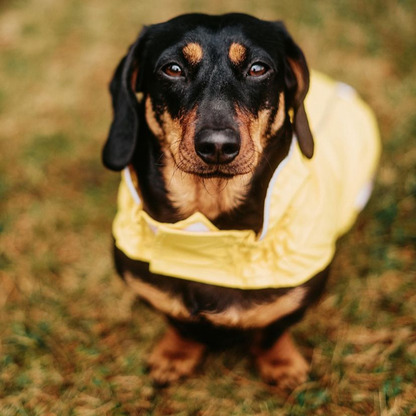dachshund: (86, 12, 393, 372)
